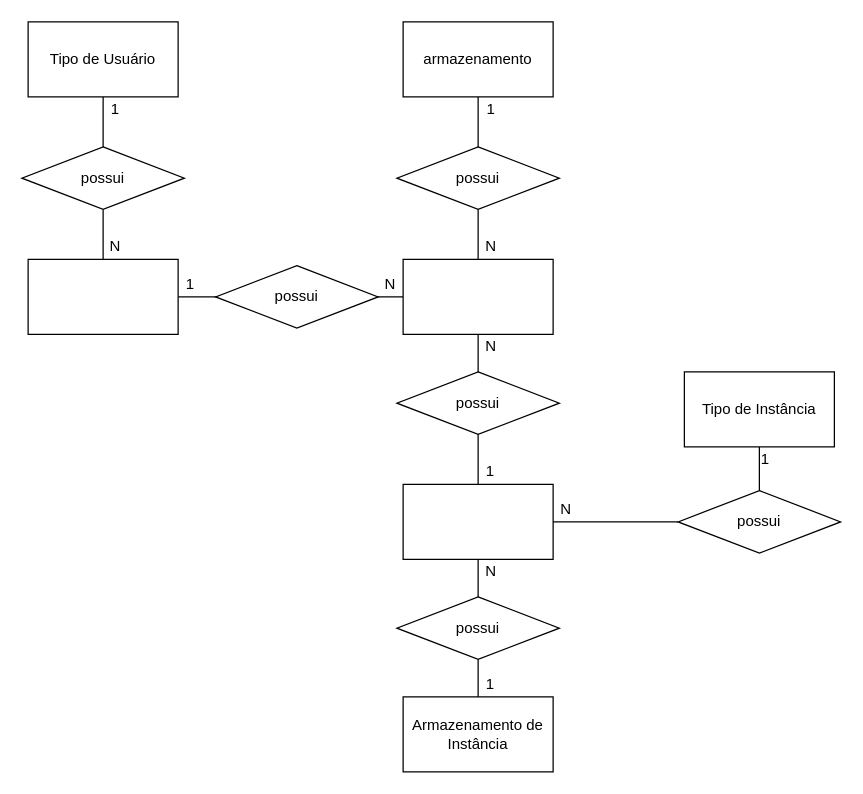
Some shapes in this 863 by 794 pixel diagram are drawn without their labels. The centre of each missing label's shape, as x and y in pixels:
"Infraestrutura" belongs at (x=477, y=296).
"instancia" belongs at (x=477, y=521).
"Usuário" belongs at (x=102, y=296).
